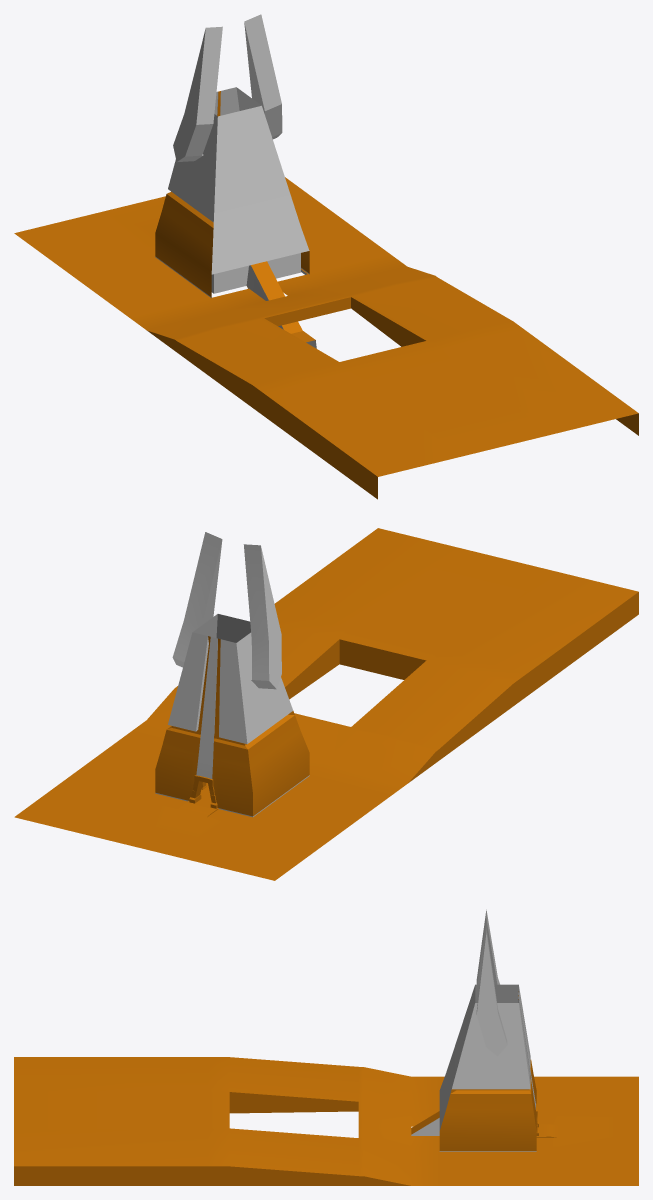
Rendered from Entrance.obj.
3 renders of one model, top to bottom at view 1: azimuth 30°, elevation 25°; view 2: azimuth 150°, elevation 25°; view 3: azimuth 270°, elevation 25°, orthographic. The views are drawn at different scales.
Parts seen in each view (by area): view 1: Entrance; view 2: Entrance; view 3: Entrance.
Part boxes in pixels (x1,y1,x2,y2): Entrance: (14, 14, 638, 499); Entrance: (14, 528, 638, 880); Entrance: (14, 909, 638, 1185).
Size of the model in its own units: 60 by 63.73 by 145.
